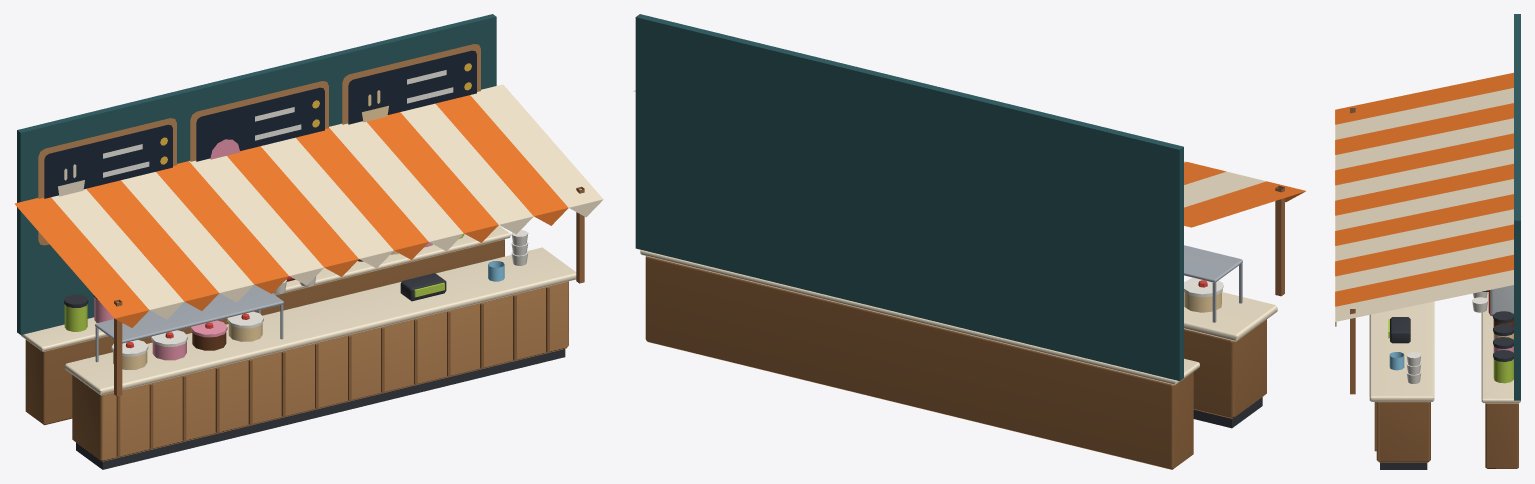
Rendered from Cafeteria.fbx.
The picture shows the model from 3 angles, left to right: view 1: azimuth 30°, elevation 25°; view 2: azimuth 150°, elevation 25°; view 3: azimuth 270°, elevation 25°; orthographic projection. The views are drawn at different scales.
Parts seen in each view (by area): view 1: Cafeteria; view 2: Cafeteria; view 3: Cafeteria.
Boxes of the visible parts, left/top/right/bottom form: Cafeteria: left=14, top=14, right=603, bottom=469; Cafeteria: left=633, top=14, right=1305, bottom=469; Cafeteria: left=1335, top=14, right=1520, bottom=469.
Bounding box in the file's own units: 14.8 × 8.2 × 5.47.
1 material, 1 textured.
